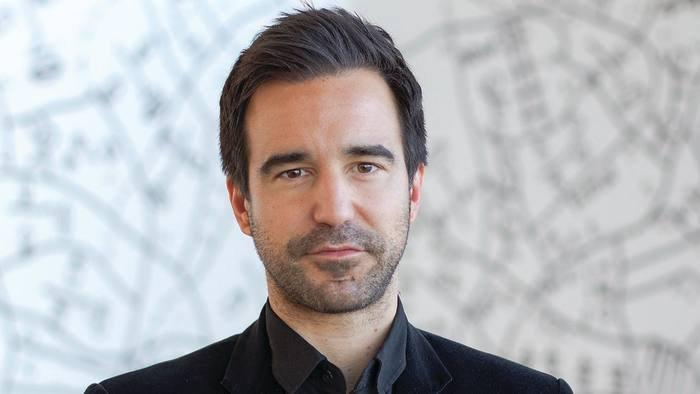Sober: (249, 84, 402, 302)
